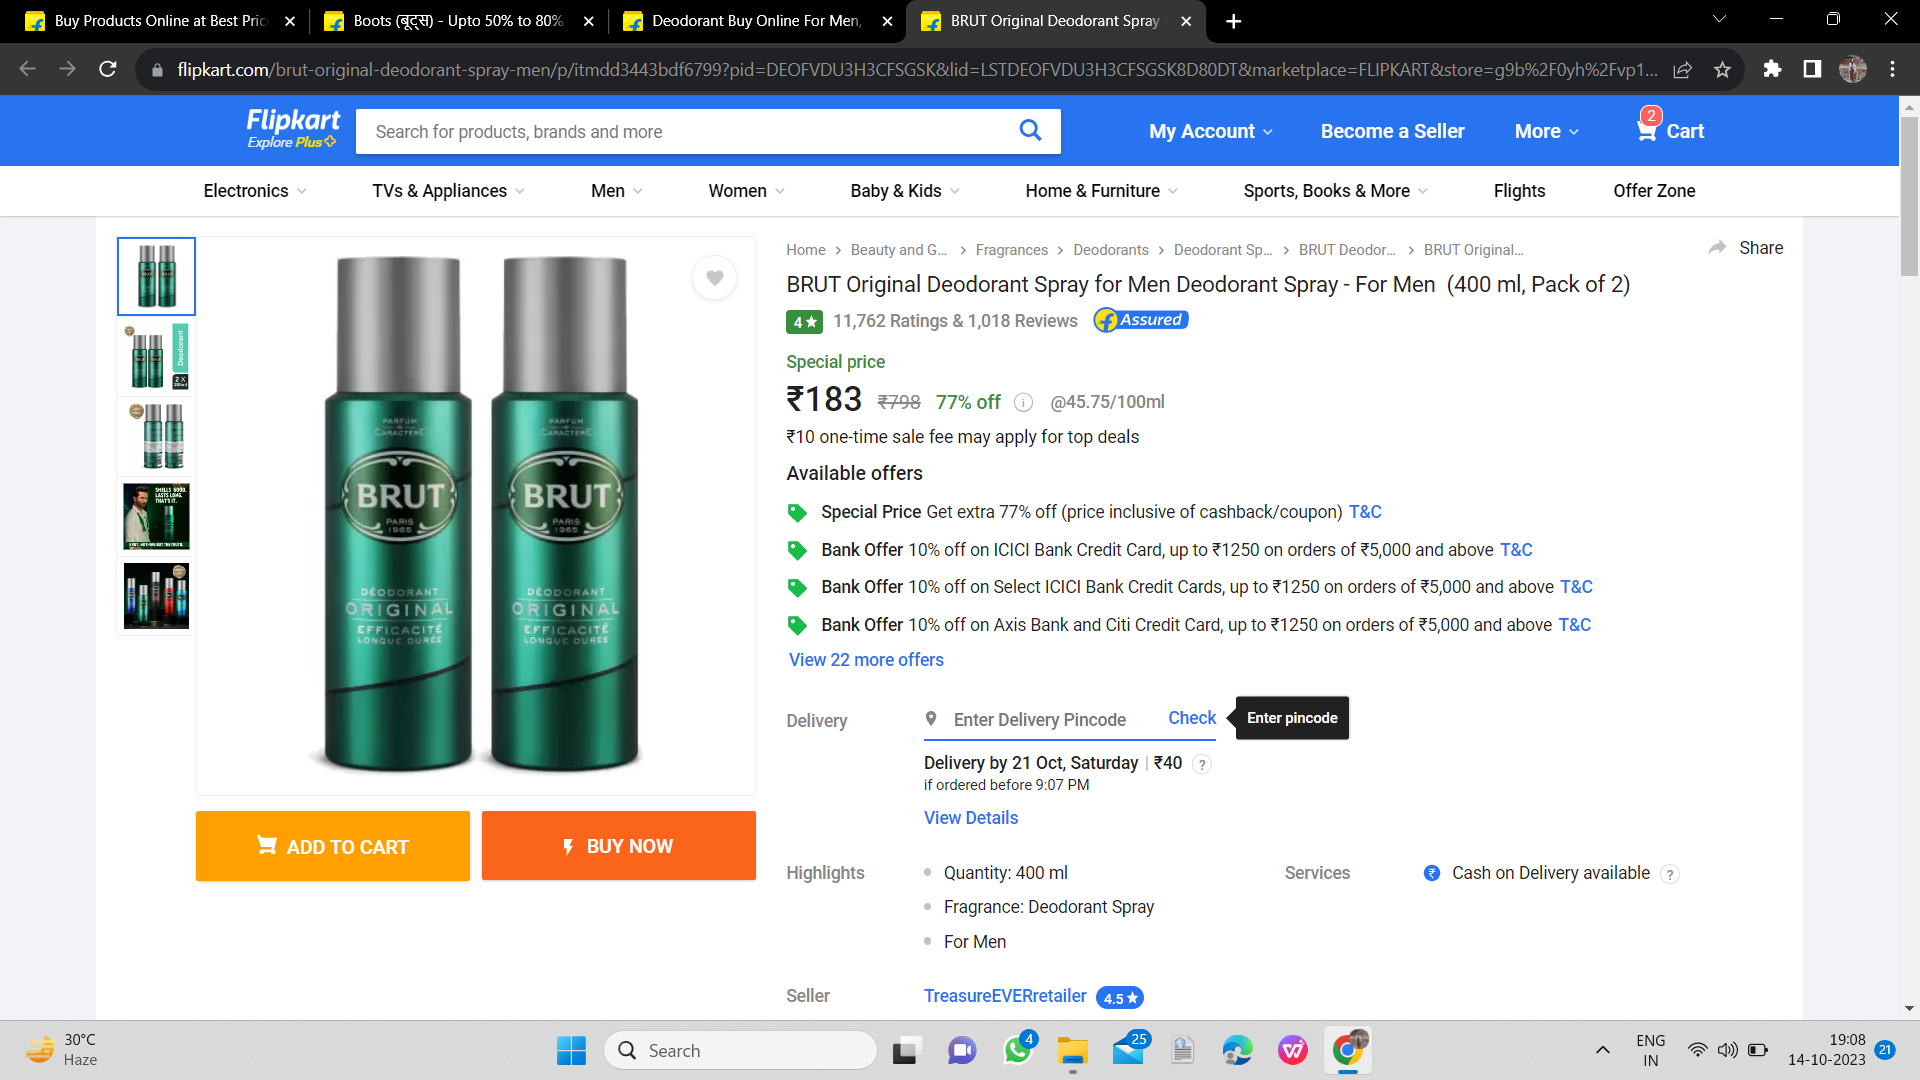Image: (231, 241, 757, 783)
Paragraph: (770, 495, 1622, 673), (783, 695, 1370, 831), (169, 803, 764, 889), (781, 352, 1180, 451), (779, 861, 1164, 960), (777, 264, 1648, 306), (1129, 104, 1720, 149), (774, 305, 1205, 345), (1273, 851, 1655, 895), (773, 975, 1156, 1005), (774, 462, 945, 485)
